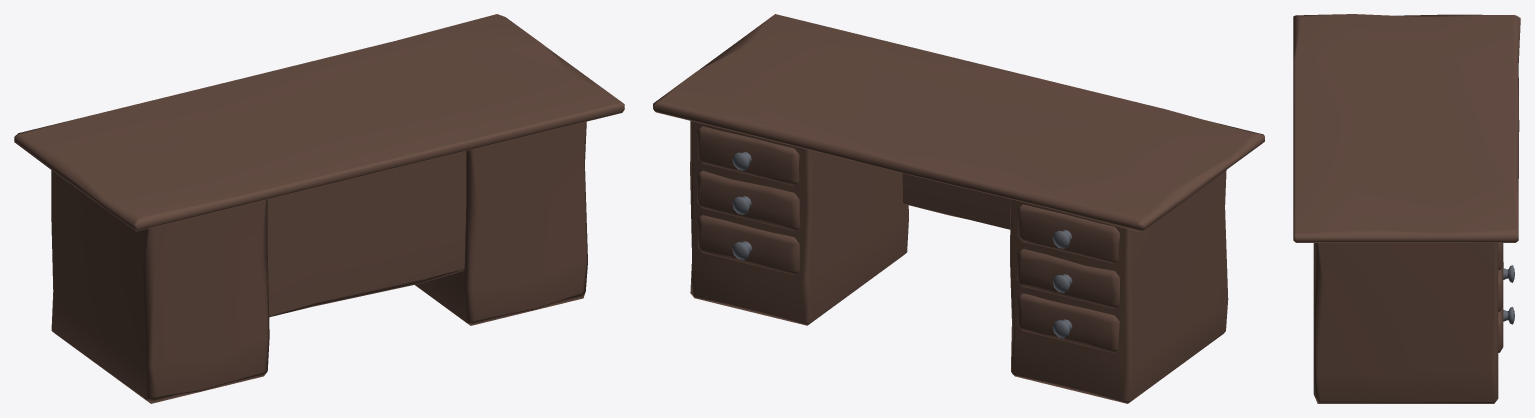
The model's file is desk.fbx.
3 views of the same model, side by side, from view 1: azimuth 30°, elevation 25°; view 2: azimuth 150°, elevation 25°; view 3: azimuth 270°, elevation 25° (orthographic). The views are drawn at different scales.
Visible parts, largest first — view 1: desk; view 2: desk; view 3: desk.
Part boxes in pixels (<box>): desk: <box>14,14,624,403</box>; desk: <box>653,14,1264,403</box>; desk: <box>1293,14,1520,403</box>.
Size of the model in its own units: 205 by 80.72 by 89.27.
